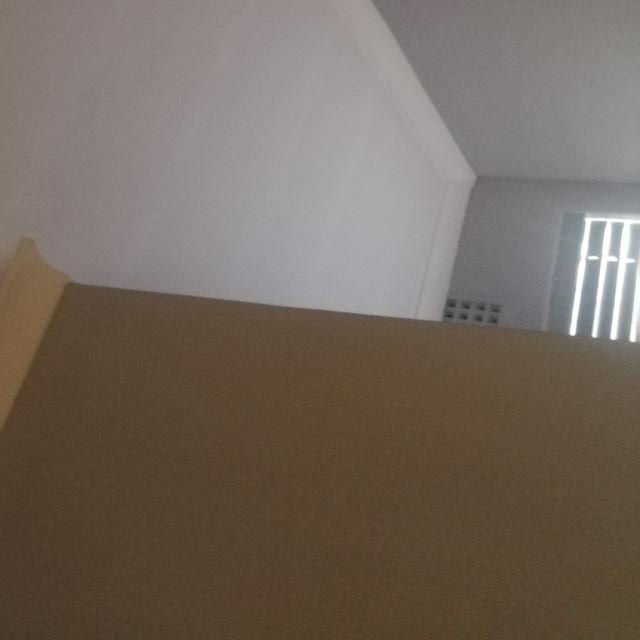fluorescent tube: (0, 0, 173, 385)
